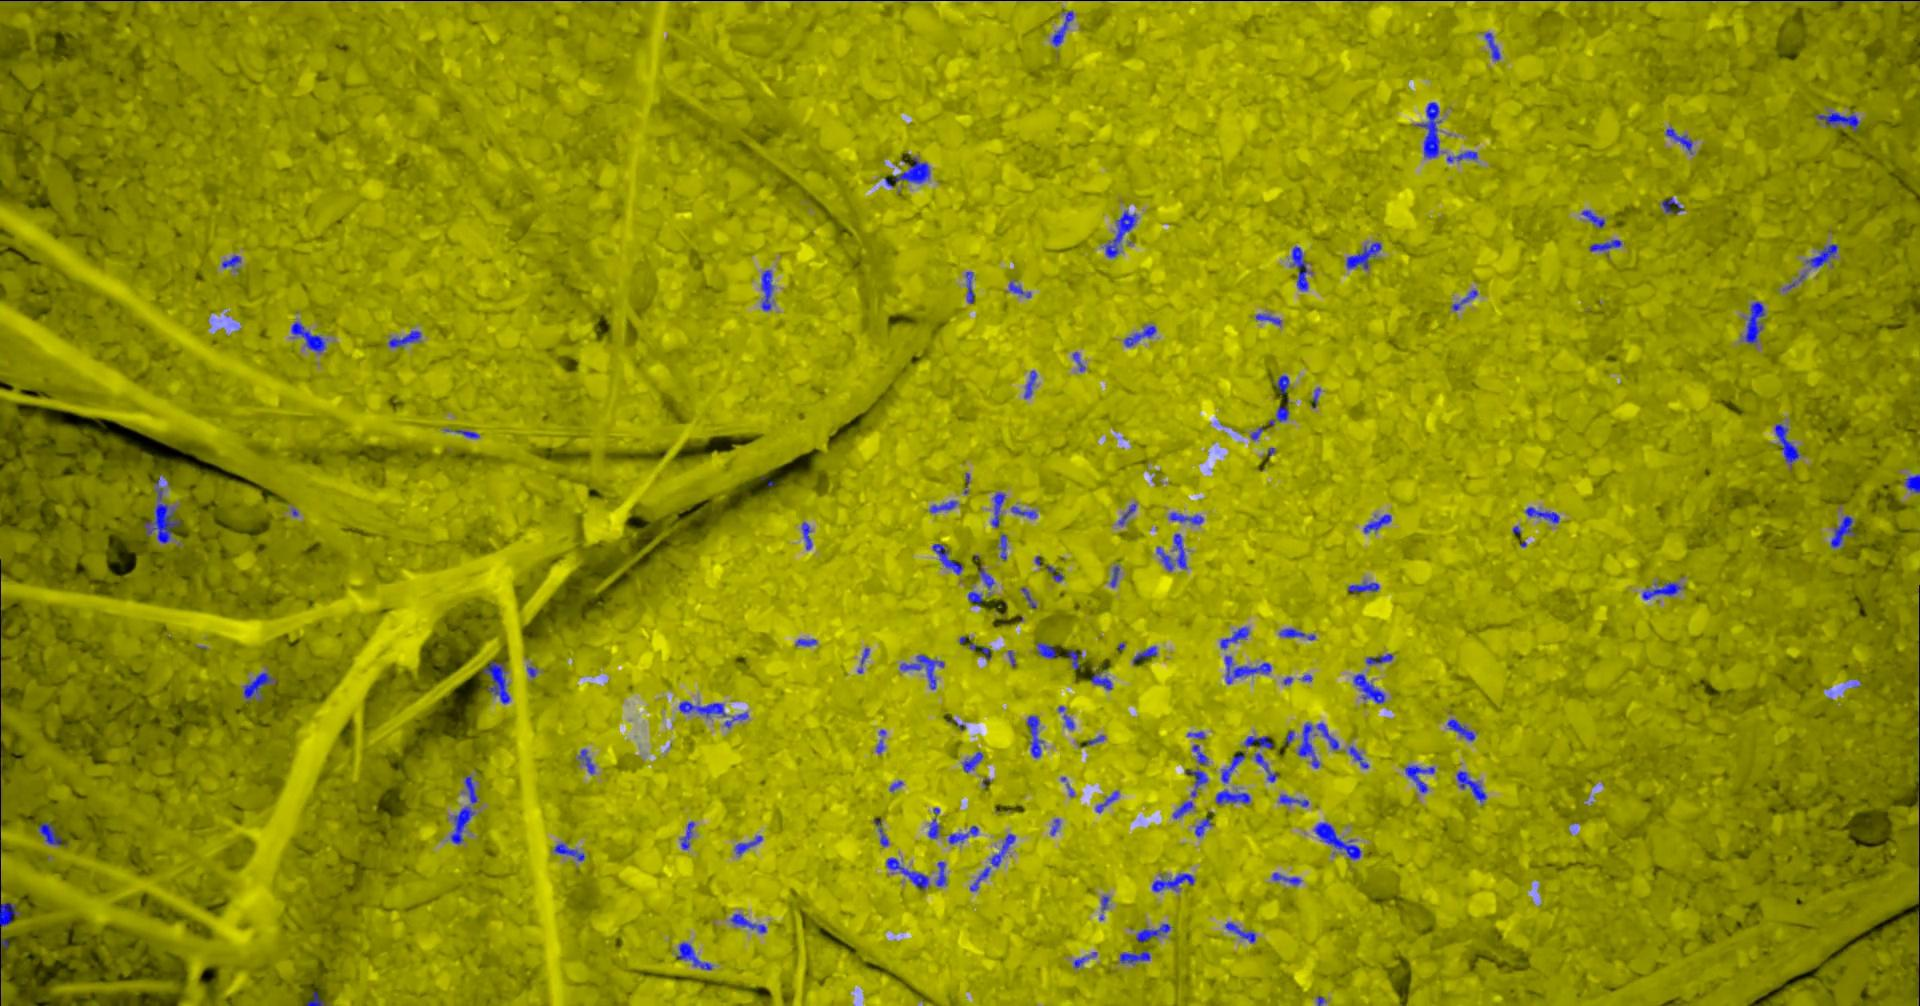ant: (145, 476, 183, 542), (1299, 721, 1340, 768), (1316, 822, 1363, 859), (902, 654, 945, 688), (1107, 210, 1138, 257), (1418, 102, 1444, 158), (888, 857, 930, 889), (1225, 655, 1272, 683), (484, 661, 512, 702), (1158, 533, 1189, 570), (292, 321, 328, 352), (1777, 423, 1801, 465), (933, 542, 964, 574), (1458, 770, 1488, 801), (677, 942, 712, 969), (1349, 243, 1383, 269), (1745, 301, 1766, 343), (895, 158, 931, 183), (245, 672, 274, 702), (1355, 673, 1385, 702), (452, 807, 476, 843), (1832, 514, 1859, 547), (1406, 765, 1436, 793), (992, 833, 1017, 866), (1817, 112, 1860, 131), (1053, 10, 1076, 46), (681, 700, 728, 716), (1293, 246, 1310, 290), (1153, 873, 1196, 890), (1807, 243, 1839, 267), (1223, 751, 1246, 782), (1029, 715, 1045, 757), (1225, 921, 1257, 942), (1644, 582, 1683, 600), (731, 913, 767, 932), (41, 821, 69, 845), (1256, 752, 1279, 781), (1125, 325, 1157, 345), (1667, 128, 1694, 152), (1137, 923, 1172, 941), (1526, 506, 1561, 523), (1187, 768, 1209, 796), (1449, 719, 1476, 741), (1222, 627, 1250, 648), (737, 835, 764, 855), (1453, 290, 1479, 310), (950, 826, 980, 843), (390, 330, 422, 347), (762, 269, 775, 310), (1365, 514, 1392, 533), (555, 843, 585, 860), (1, 902, 22, 926), (963, 751, 984, 772), (1350, 746, 1370, 768), (1097, 791, 1120, 812), (1486, 32, 1502, 60), (971, 866, 990, 890), (993, 492, 1006, 527), (1281, 627, 1317, 640), (1217, 790, 1252, 803), (1171, 512, 1204, 525), (1270, 405, 1290, 426), (1583, 210, 1606, 227), (875, 819, 890, 846), (1591, 239, 1623, 251), (1037, 641, 1062, 658), (1134, 647, 1158, 663), (681, 821, 695, 848), (1121, 950, 1152, 963), (1010, 281, 1032, 297), (979, 565, 996, 588), (1281, 794, 1310, 807), (580, 749, 596, 774), (1448, 151, 1479, 163), (1349, 580, 1380, 592), (1663, 197, 1685, 213), (1120, 503, 1137, 525), (1246, 735, 1274, 748), (466, 775, 479, 803), (1274, 873, 1302, 885), (1076, 951, 1098, 967), (1196, 817, 1214, 836), (971, 643, 992, 659), (1092, 672, 1112, 688), (1175, 801, 1195, 818), (1012, 506, 1037, 518), (1026, 370, 1037, 398), (726, 713, 749, 727), (446, 429, 481, 438), (1068, 649, 1083, 669), (931, 500, 957, 512), (1368, 653, 1394, 664), (968, 271, 977, 304), (1257, 312, 1283, 324), (1194, 744, 1209, 763), (937, 861, 949, 887), (803, 522, 813, 549), (1048, 565, 1065, 580), (1906, 474, 1920, 492), (309, 991, 326, 1005), (930, 818, 941, 838), (1277, 375, 1290, 392), (223, 255, 243, 267), (969, 591, 984, 605), (1112, 565, 1121, 586), (1002, 533, 1008, 560), (797, 638, 818, 645)
